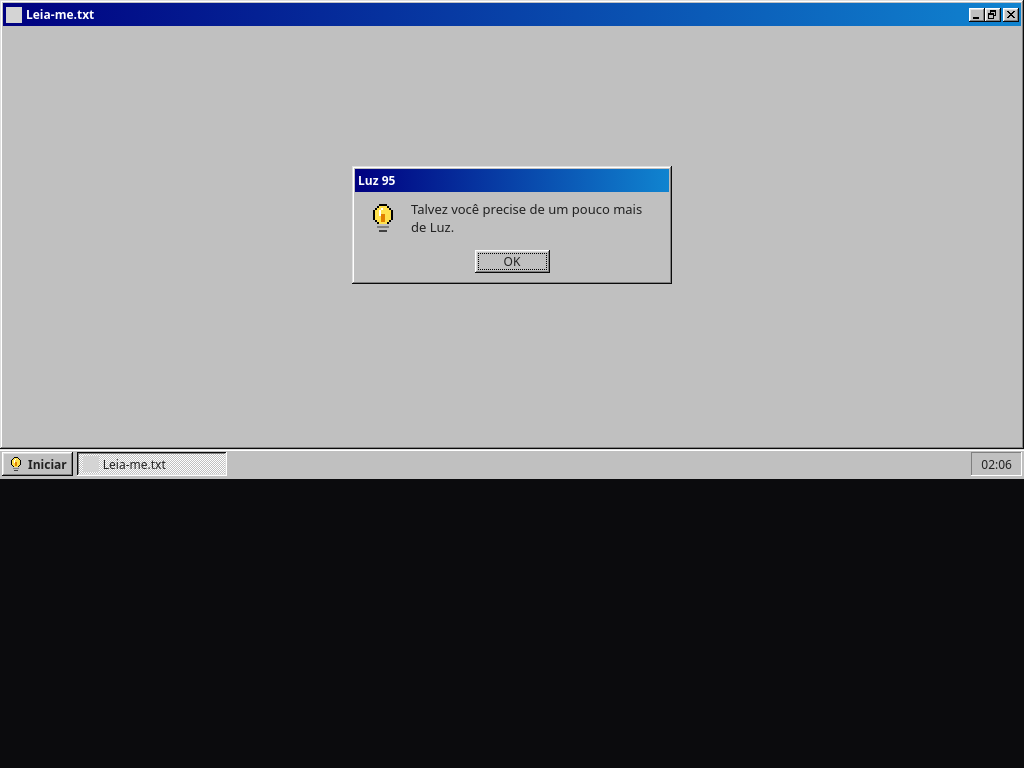
Test: Desktop mobile first visit › lamp easter egg: flickers the screen and suggests a bit more Luz
Check: the dialog "Luz 95" shows "Talvez você precise de um pouco mais de Luz", box [411,200,642,236]
Click the button "OK" at (512, 261), box [474,250,550,273]
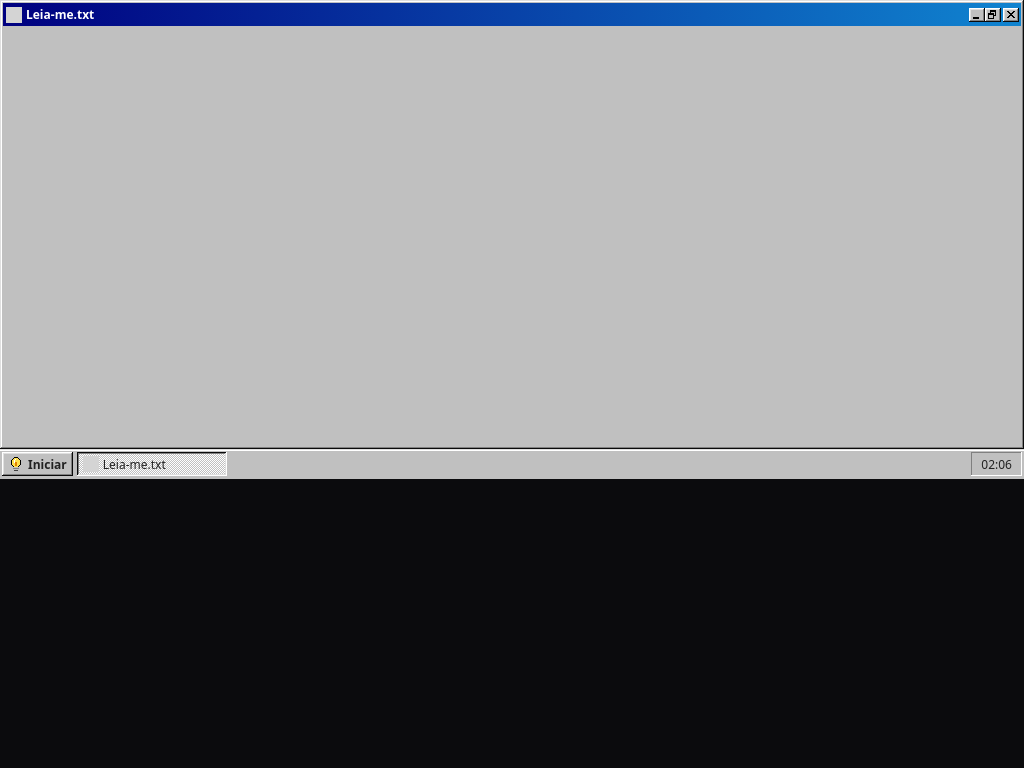
Check: the text "Luz 95" is gone
